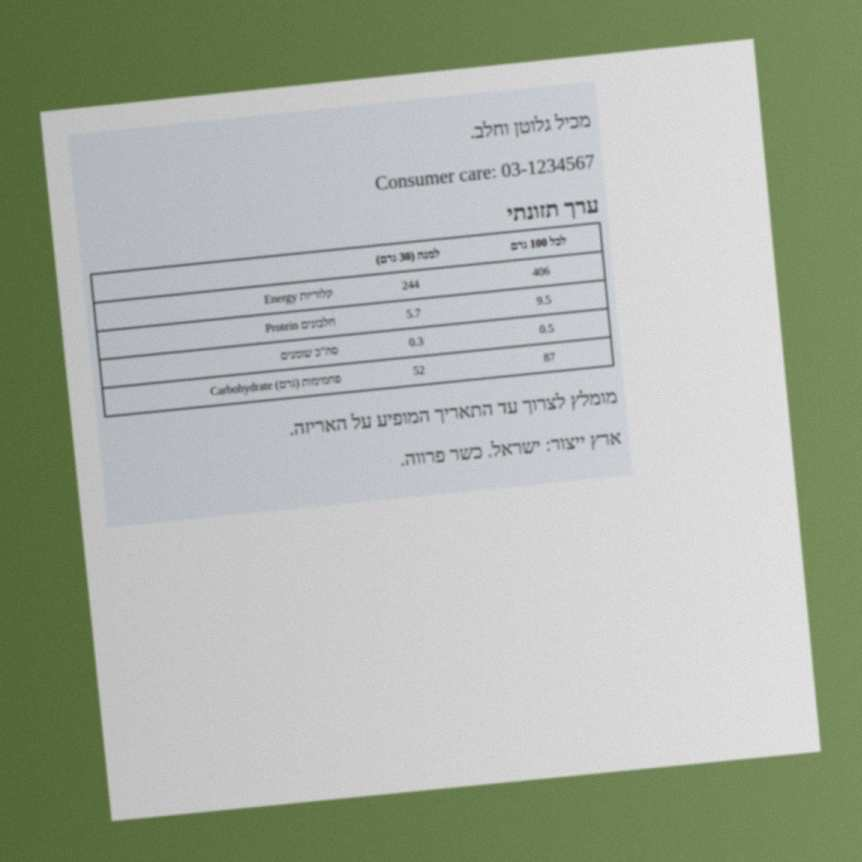carbs: (541, 349, 557, 365)
energy: (530, 263, 552, 280)
fat: (537, 320, 556, 337)
protein: (534, 292, 553, 309)
